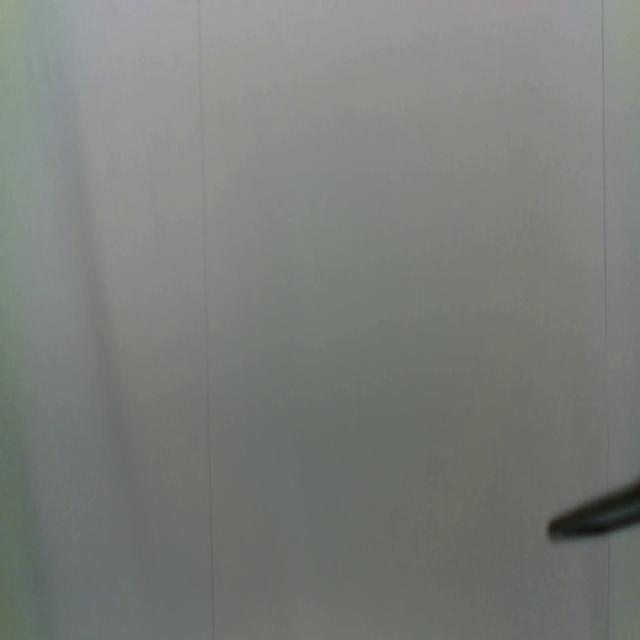crease: (196, 2, 217, 640), (599, 0, 612, 489), (605, 533, 613, 640)
